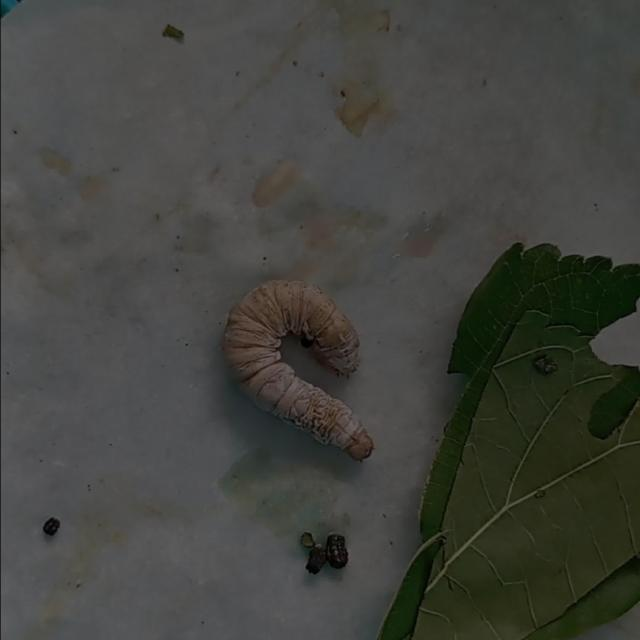Grasserie: (195, 240, 542, 533)
